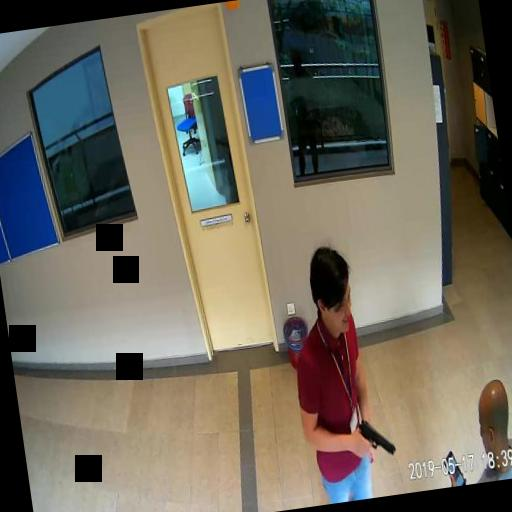Handgun: (356, 414, 394, 458)
